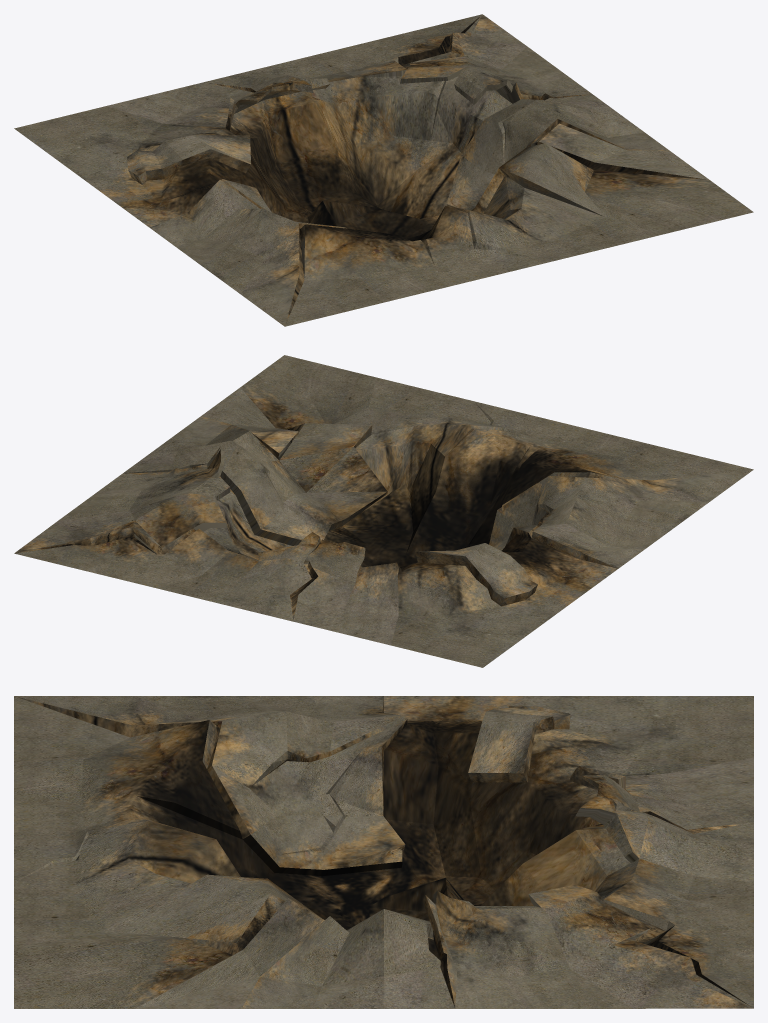
Rendered from Crater_11.fbx.
3 views of the same model, one above another, from view 1: azimuth 30°, elevation 25°; view 2: azimuth 150°, elevation 25°; view 3: azimuth 270°, elevation 25° (orthographic). The views are drawn at different scales.
Parts seen in each view (by area): view 1: Crater_11; view 2: Crater_11; view 3: Crater_11.
Boxes of the visible parts, <box> form: Crater_11: <box>14,14,753,326</box>; Crater_11: <box>14,355,753,667</box>; Crater_11: <box>14,696,753,1008</box>.
Size of the model in its own units: 1201 by 295 by 1201.
